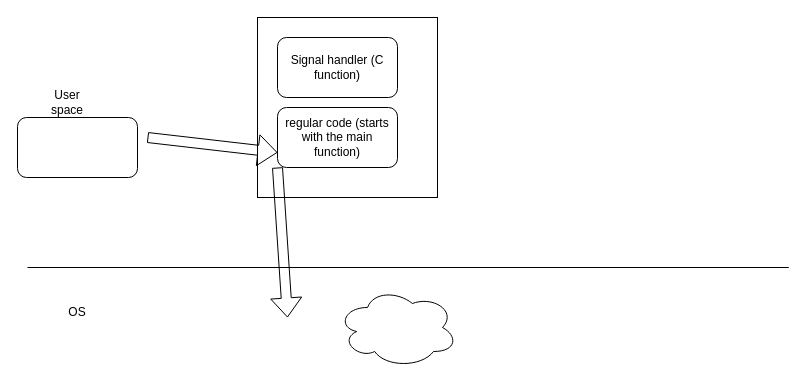
Image size: 808x385. Some labels were removed from this diagram. The shapes that lost their labels are listed below. From the top down, each one's centre as x and y in pixels, then its label:
At (77,147): "CPU".
At (397,327): "Zzzzzzzz".
